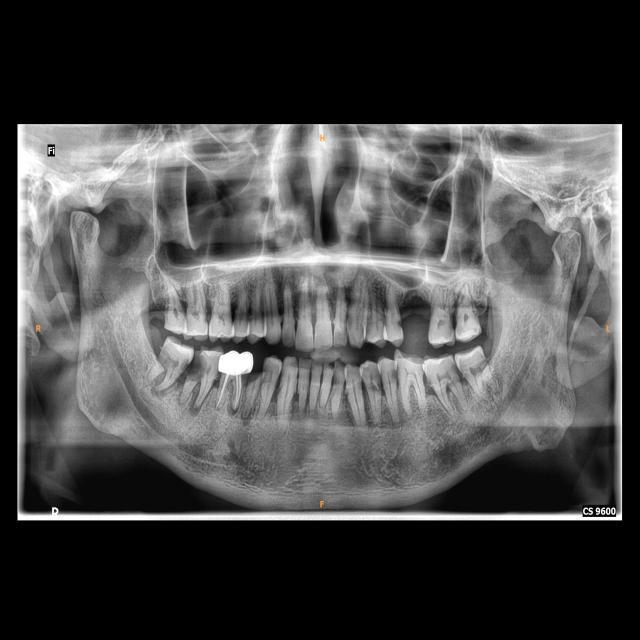dentin-curugu: (247, 355, 272, 388), (187, 348, 211, 380), (332, 371, 341, 388), (372, 381, 383, 394), (388, 368, 398, 382)
kanal-tedavisi: (219, 372, 244, 418)
kaplama: (219, 351, 255, 375)
